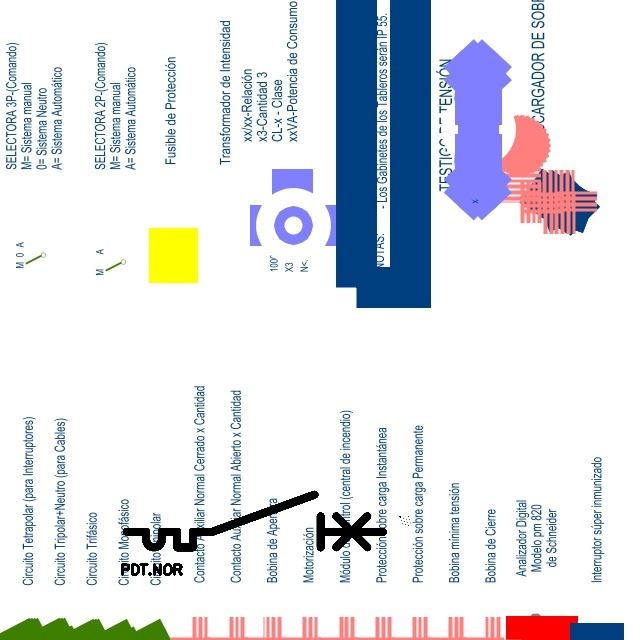interruptor_termomagnetico: (120, 488, 390, 554)
